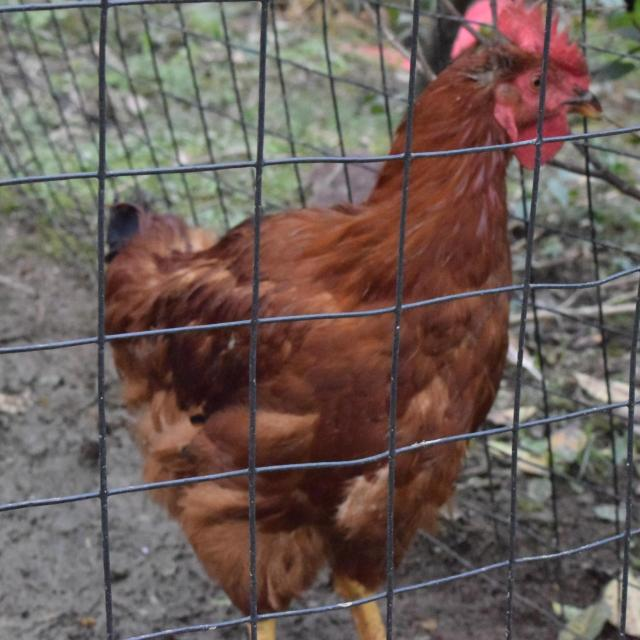cook: (153, 476, 252, 616)
